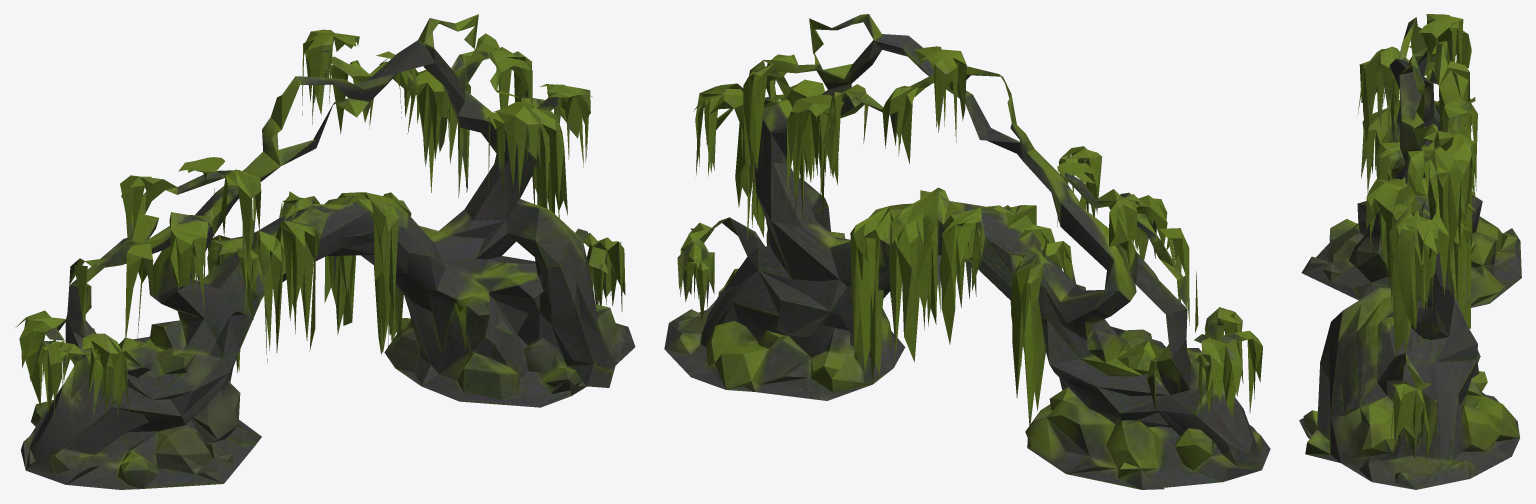
File: willow_overhang.glb
3 views of the same model, side by side, from view 1: azimuth 30°, elevation 25°; view 2: azimuth 150°, elevation 25°; view 3: azimuth 270°, elevation 25° (orthographic). The views are drawn at different scales.
Bounding box in the file's own units: 1.9 × 1.09 × 0.6395.
Materials: 1 (1 with a texture image).
